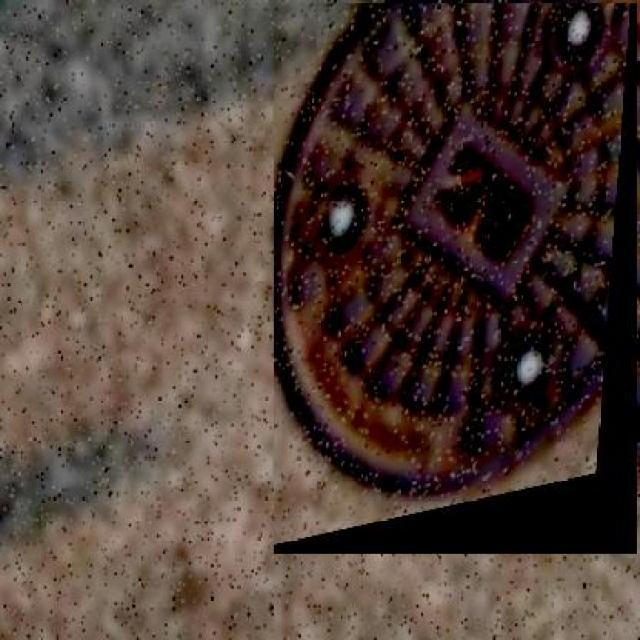Manhole: (275, 2, 638, 555)
